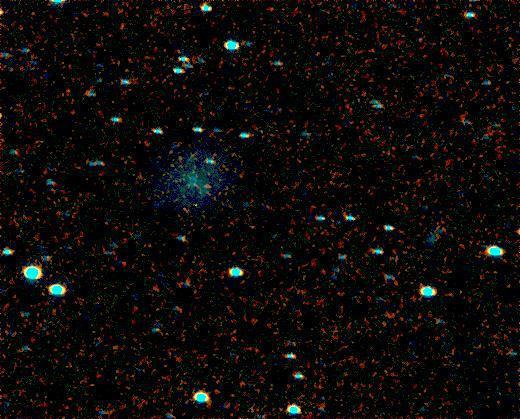star: (237, 207, 267, 237)
